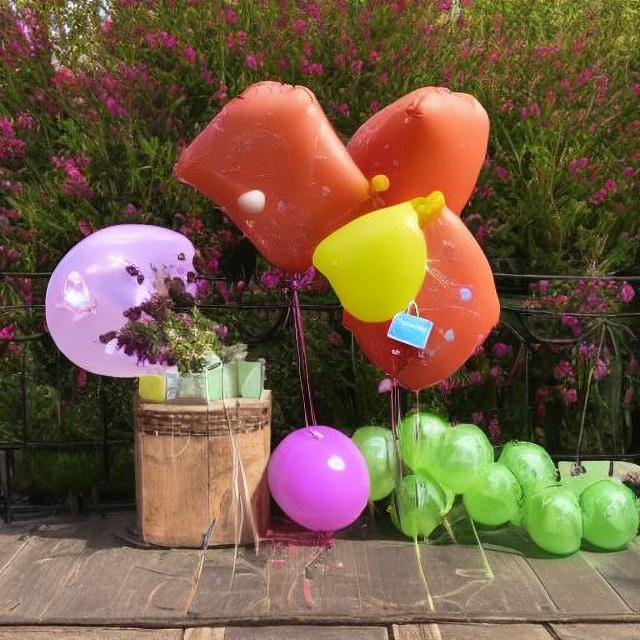balloon: (179, 66, 512, 395), (270, 408, 635, 560), (43, 227, 204, 378)
